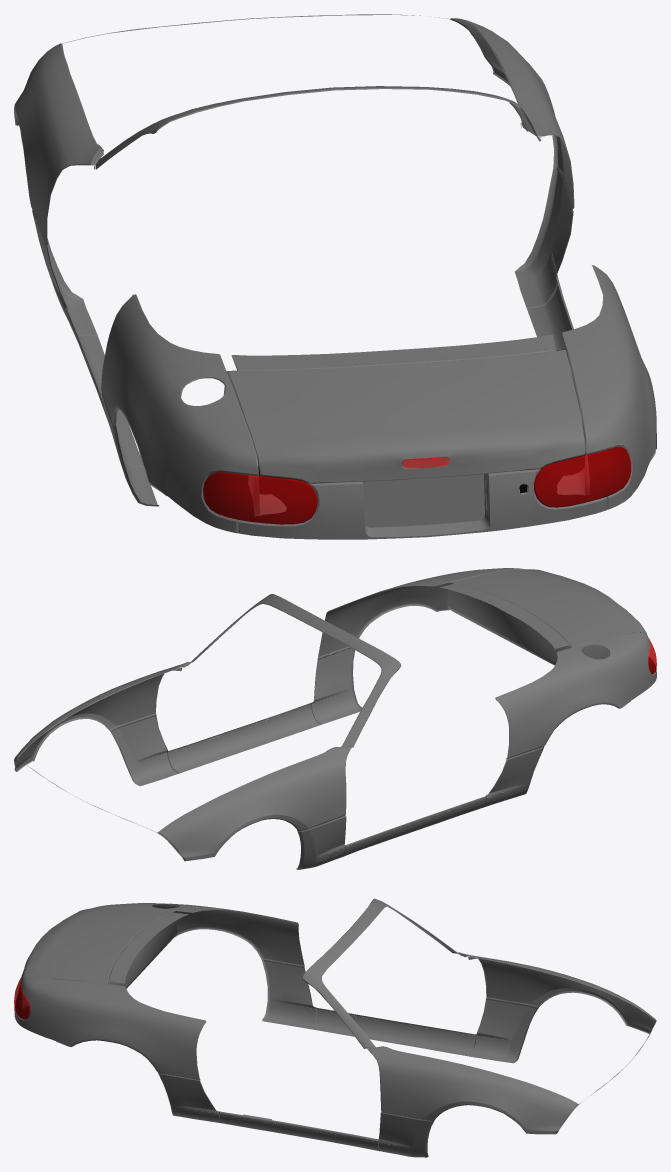
Rendered from miata-trunk.fbx.
The picture shows the model from 3 angles, top to bottom: view 1: azimuth 30°, elevation 25°; view 2: azimuth 150°, elevation 25°; view 3: azimuth 270°, elevation 25°; orthographic projection. The views are drawn at different scales.
Parts seen in each view (by area): view 1: Miata_1, Miata_1.001, Miata_11.002, Miata_6.001, Miata_1.002; view 2: Miata_1, Miata_1.001, Miata_1.002; view 3: Miata_1, Miata_1.001, Miata_1.002, Miata_11.002.
Part boxes in pixels (x1,y1,x2,y2): Miata_1: (14,14,656,539); Miata_1.001: (227,350,585,482); Miata_11.002: (203,447,631,524); Miata_6.001: (203,447,630,524); Miata_1.002: (223,349,589,524); Miata_1: (14,568,656,869); Miata_1.001: (451,569,646,647); Miata_1.002: (447,582,633,665); Miata_1: (14,898,656,1157); Miata_1.001: (20,907,173,983); Miata_1.002: (21,910,177,1008); Miata_11.002: (14,977,30,1019).
Size of the model in its own units: 398 by 161 by 583.
